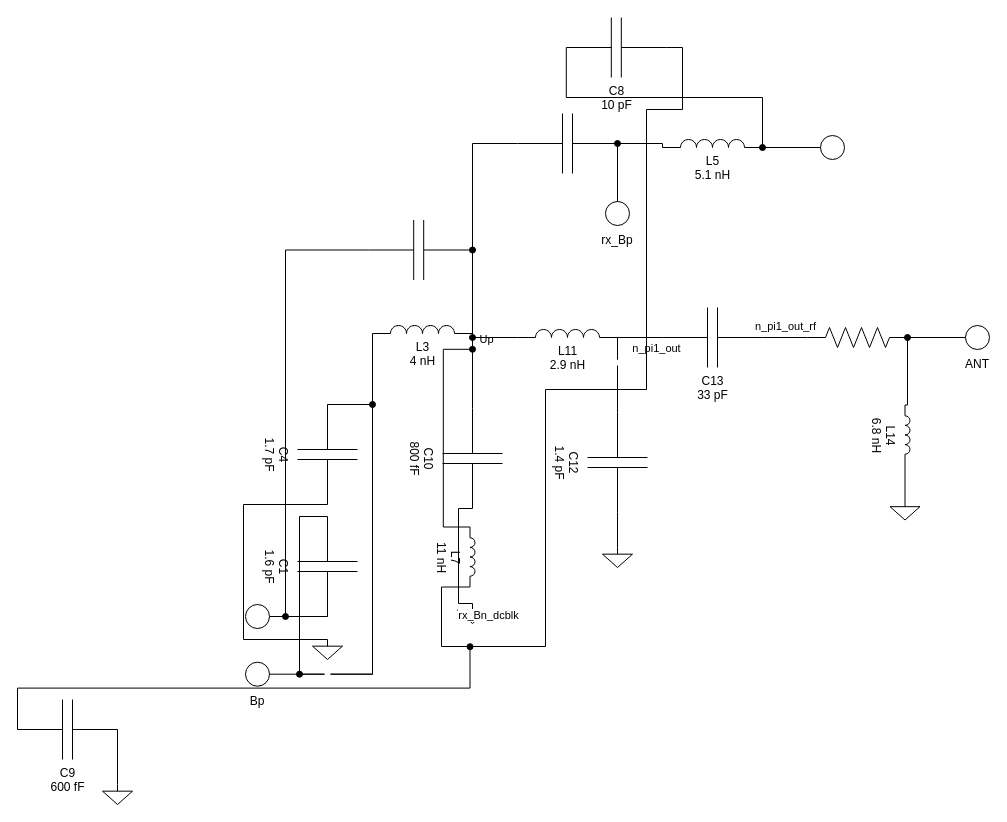
The diagram is 1007 pixels wide and 822 high, and some of its shapes have lost their labels. Each missing label, with the centre of its shape:
"Bn" goes at (x=257, y=616).
"C2 1 pF" goes at (x=418, y=249).
"C6 300 fF" goes at (x=567, y=143).
"R_ant0 0 Ω" goes at (x=857, y=337).
"rx_Bn" goes at (x=832, y=147).
